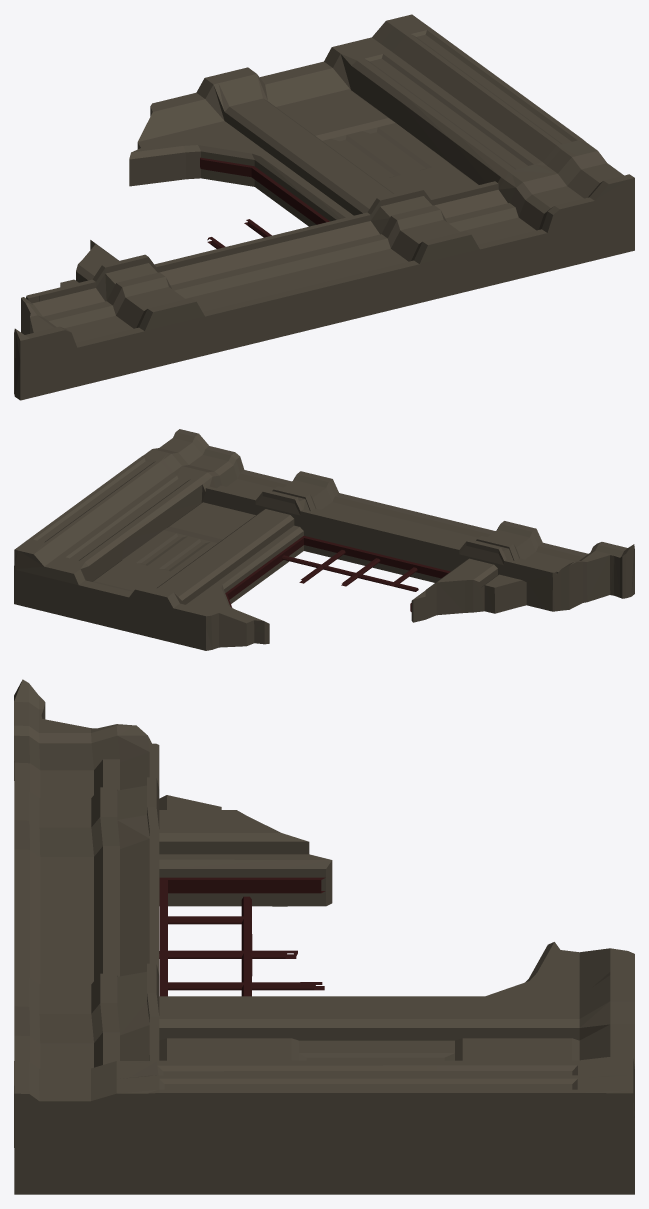
File: P_F_SYMMonoCassé.fbx
The picture shows the model from 3 angles, top to bottom: view 1: azimuth 30°, elevation 25°; view 2: azimuth 150°, elevation 25°; view 3: azimuth 270°, elevation 25°; orthographic projection. The views are drawn at different scales.
Parts seen in each view (by area): view 1: P_F_MonoW; view 2: P_F_MonoW; view 3: P_F_MonoW.
Part boxes in pixels (x1=…): P_F_MonoW: x1=14, y1=14, x2=634, y2=400; P_F_MonoW: x1=14, y1=429, x2=634, y2=650; P_F_MonoW: x1=14, y1=679, x2=634, y2=1194.
Bounding box in the file's own units: 621 × 70.51 × 390.
